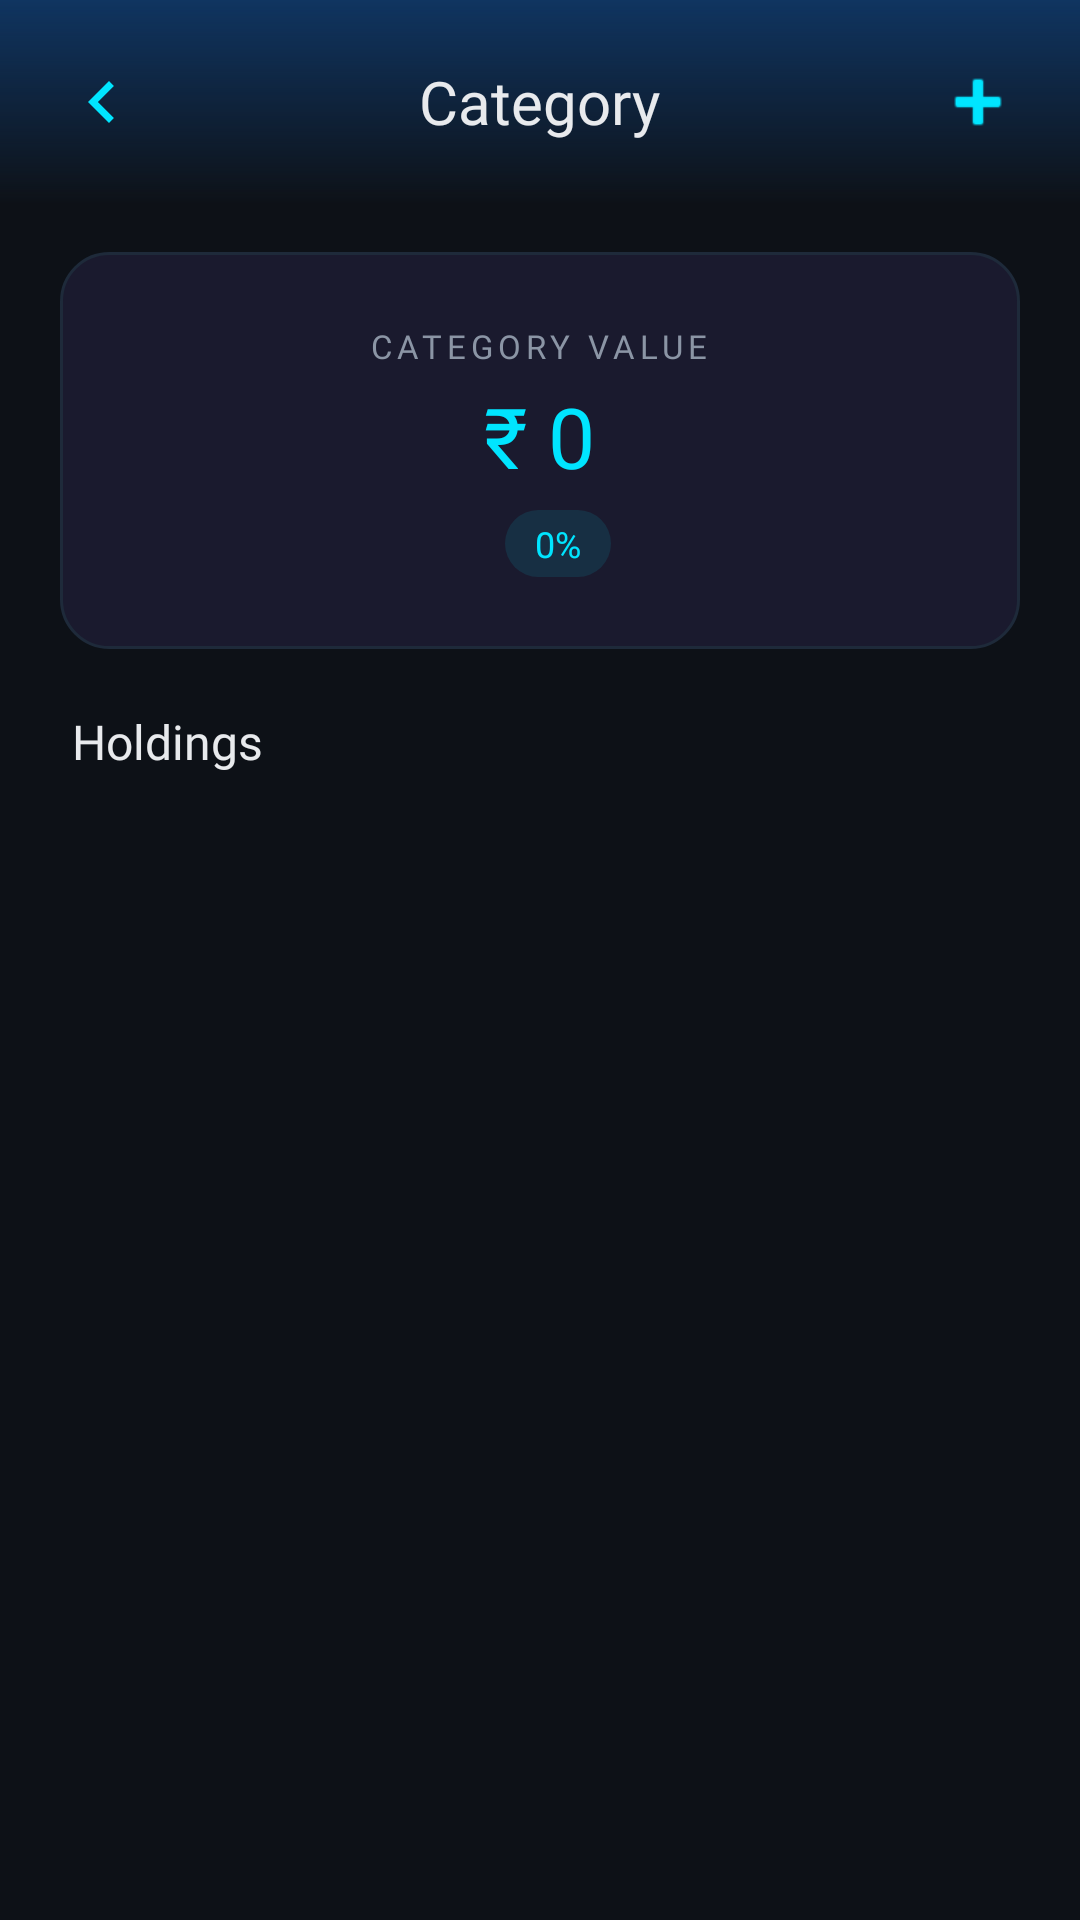

Icon click points for this 1080 × 1920 phone screenshot, format (x,y):
Add Asset: (978,111)
